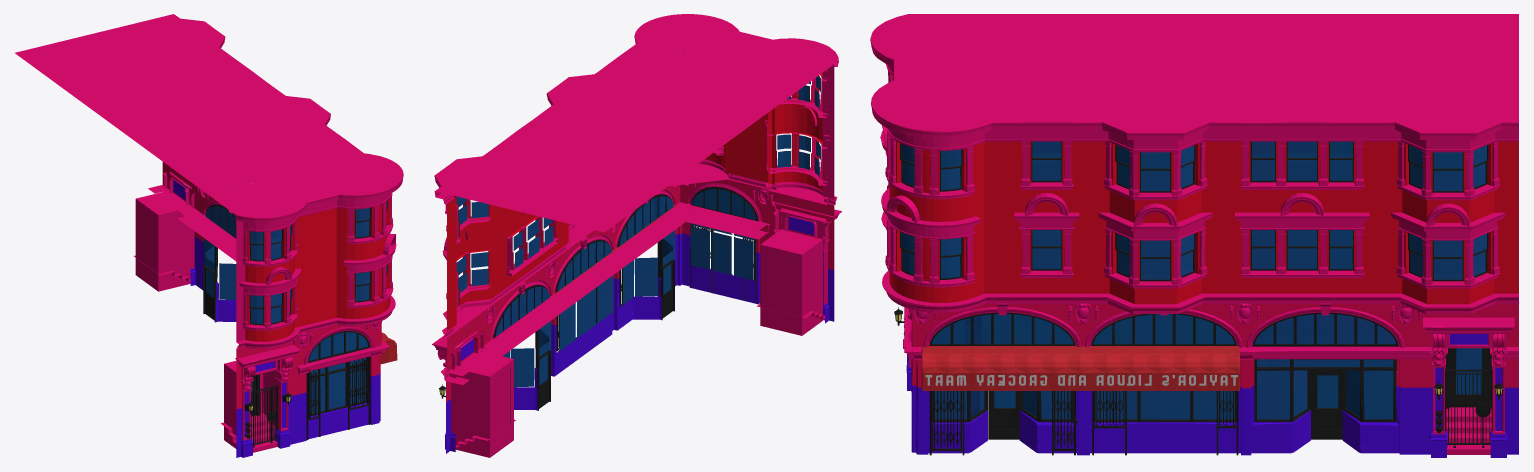
The model's file is Building_Apartment02.fbx.
The picture shows the model from 3 angles, left to right: view 1: azimuth 30°, elevation 25°; view 2: azimuth 150°, elevation 25°; view 3: azimuth 270°, elevation 25°; orthographic projection. The views are drawn at different scales.
Parts seen in each view (by area): view 1: SM_City_Building_Apartment_04.mo; view 2: SM_City_Building_Apartment_04.mo; view 3: SM_City_Building_Apartment_04.mo.
Part boxes in pixels (x1,y1,x2,y2): SM_City_Building_Apartment_04.mo: (15, 14, 403, 457); SM_City_Building_Apartment_04.mo: (432, 14, 841, 457); SM_City_Building_Apartment_04.mo: (870, 14, 1519, 457).
Bounding box in the file's own units: 833 × 1114 × 1930.
